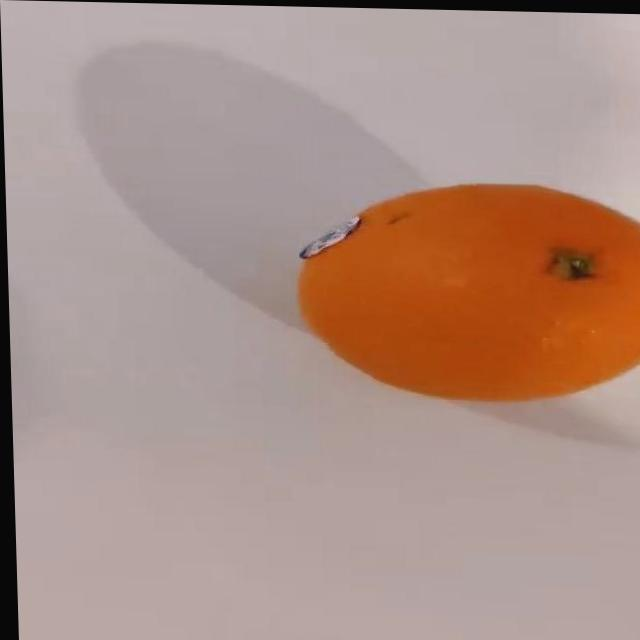Orange: (292, 175, 640, 403)
